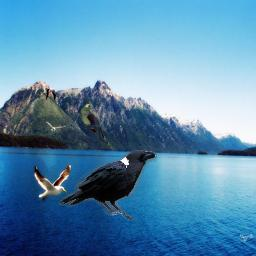Crow: (59, 150, 157, 220)
Cuckoo: (79, 103, 115, 150)
